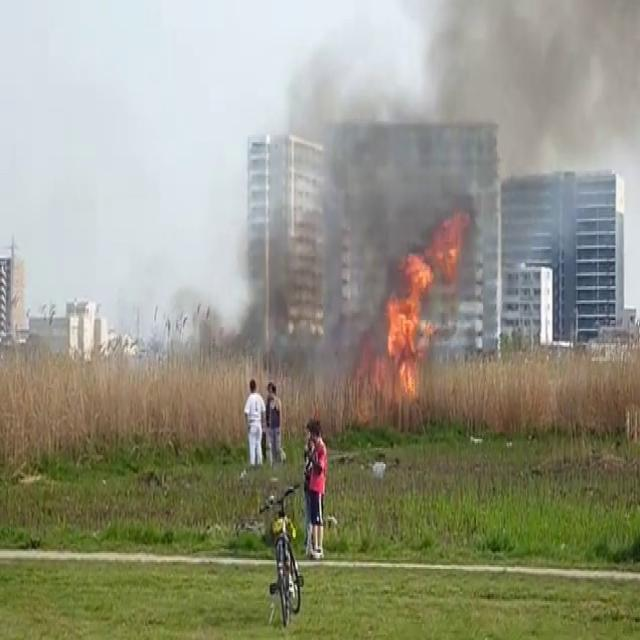Fire: (377, 238, 445, 404)
Smoke: (229, 0, 639, 357)
